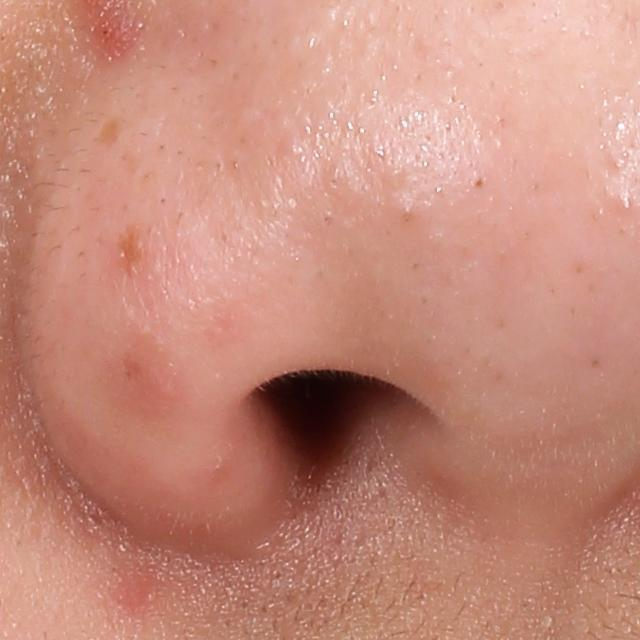comedo: (612, 192, 638, 217), (469, 173, 491, 193)
